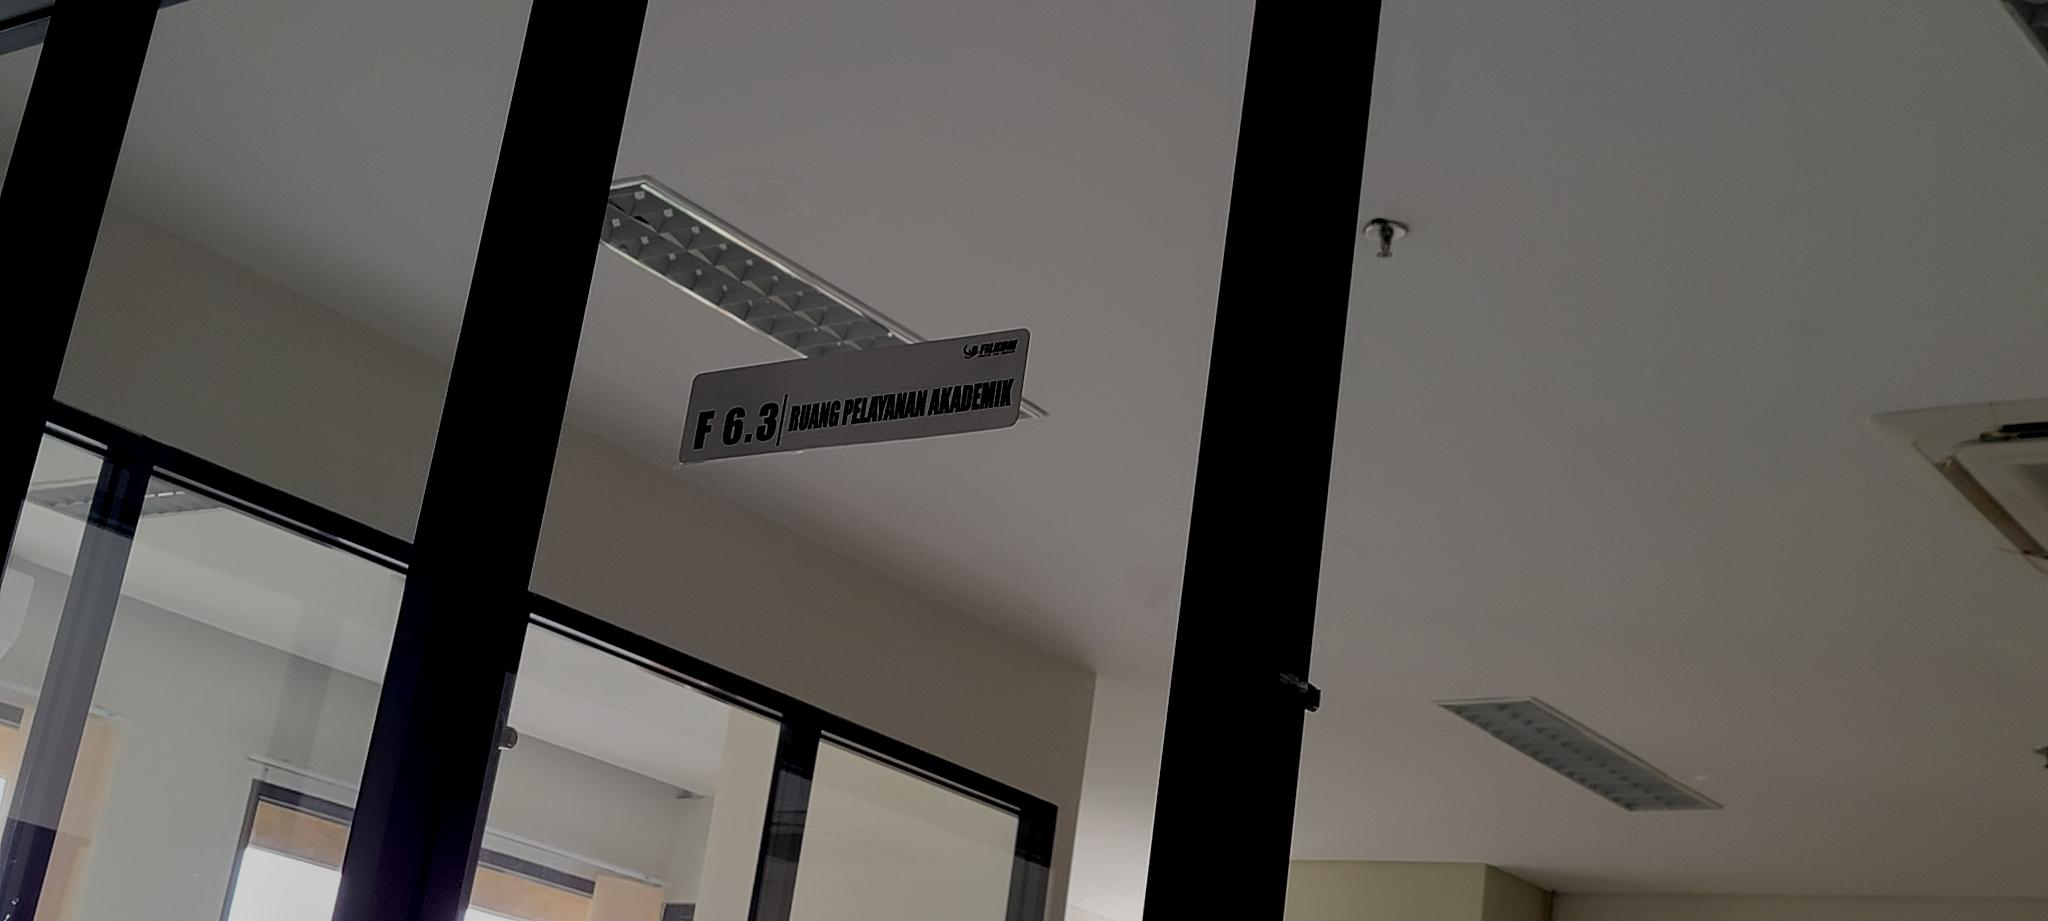plate: (679, 328, 1032, 464)
